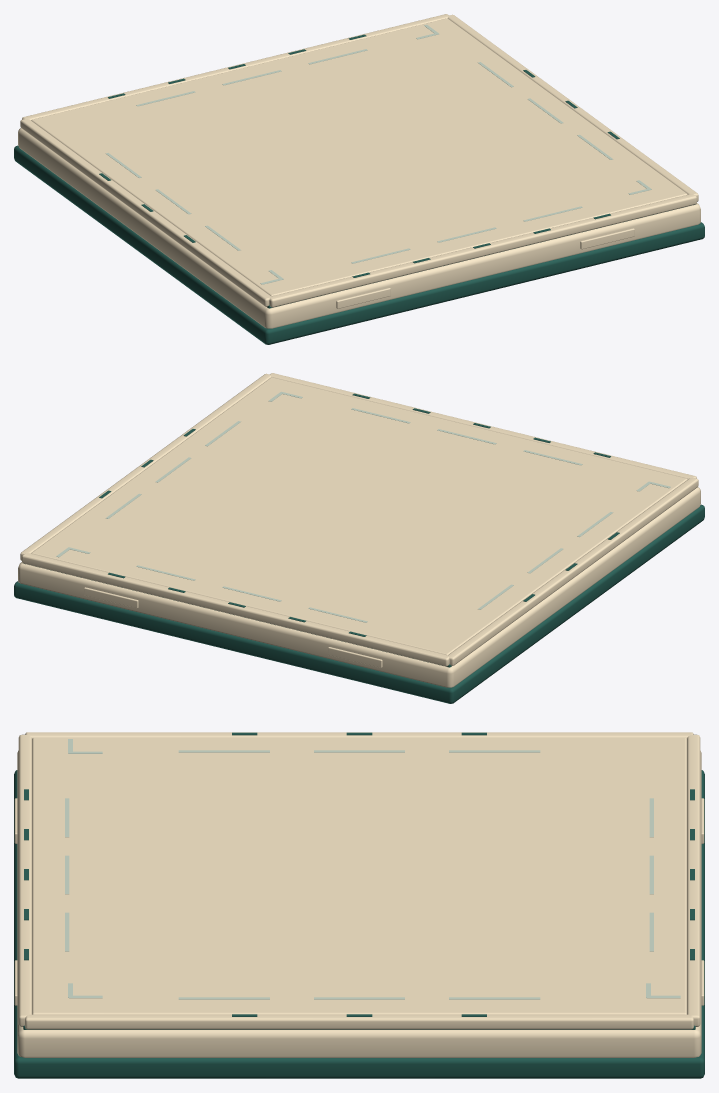
Rendered from athlete_tile_neutral.glb.
The picture shows the model from 3 angles, top to bottom: view 1: azimuth 30°, elevation 25°; view 2: azimuth 150°, elevation 25°; view 3: azimuth 270°, elevation 25°; orthographic projection. The views are drawn at different scales.
Visible parts, largest first — view 1: athlete_tile_neutral__surface_neutral, athlete_tile_neutral__cream, athlete_tile_neutral__ink, athlete_tile_neutral__line; view 2: athlete_tile_neutral__surface_neutral, athlete_tile_neutral__cream, athlete_tile_neutral__ink, athlete_tile_neutral__line; view 3: athlete_tile_neutral__surface_neutral, athlete_tile_neutral__cream, athlete_tile_neutral__ink, athlete_tile_neutral__line.
Boxes of the visible parts, x1,y1,x2,y2 form: athlete_tile_neutral__surface_neutral: [31, 18, 687, 308]; athlete_tile_neutral__cream: [18, 14, 700, 328]; athlete_tile_neutral__ink: [14, 34, 704, 344]; athlete_tile_neutral__line: [105, 24, 651, 284]; athlete_tile_neutral__surface_neutral: [31, 377, 687, 667]; athlete_tile_neutral__cream: [18, 373, 700, 687]; athlete_tile_neutral__ink: [14, 393, 704, 703]; athlete_tile_neutral__line: [56, 391, 670, 622]; athlete_tile_neutral__surface_neutral: [14, 737, 704, 1014]; athlete_tile_neutral__cream: [17, 732, 701, 1057]; athlete_tile_neutral__ink: [14, 732, 704, 1078]; athlete_tile_neutral__line: [65, 739, 680, 999].
Bounding box in the file's own units: 2.05 × 0.197 × 2.05.
